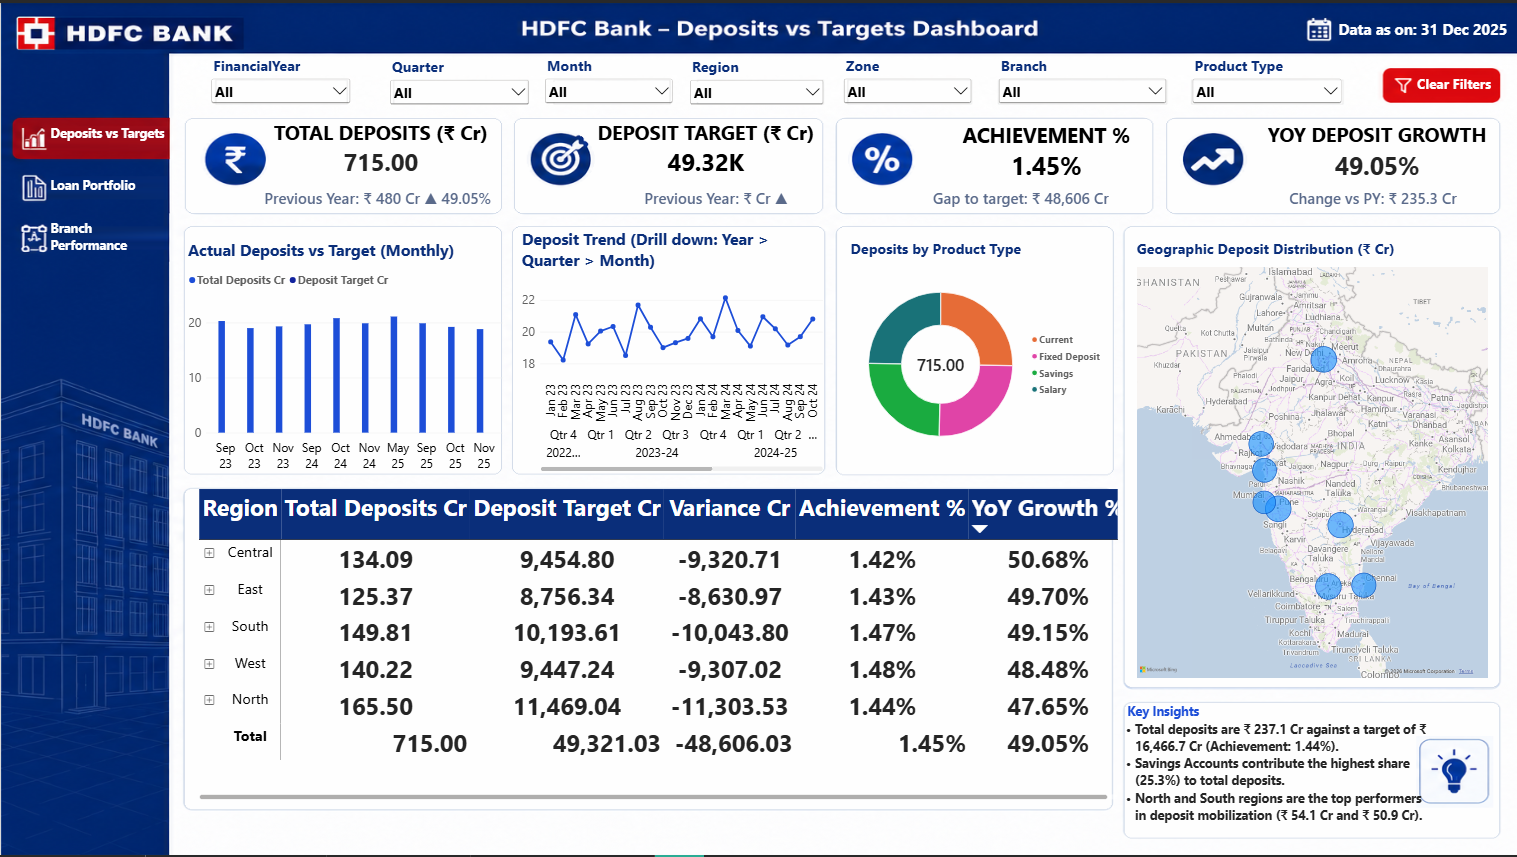

What the dashboard file says about the page in this screenshot:
{"tool":"powerbi","page":{"name":"Deposits vs Targets","canvas":[2560,1440],"ordinal":0},"visuals":[{"type":"pageNavigator","box":[71.9,182,227.5,253.9],"z":0},{"type":"slicer","fields":{"Values":["DimDate.FinancialYear"]},"box":[349.7,88.6,244.3,93.4],"z":1000},{"type":"slicer","fields":{"Values":["DimDate.FY Quarter"]},"box":[651.5,91,244.3,93.4],"z":2000},{"type":"slicer","fields":{"Values":["DimDate.Month Sort"]},"box":[912.6,88.6,225.2,93.4],"z":3000},{"type":"slicer","fields":{"Values":["DimBranch.Region"]},"box":[1156.9,91,234.7,93.4],"z":4000},{"type":"slicer","fields":{"Values":["DimBranch.Zone"]},"box":[1418,88.6,225.2,93.4],"z":5000},{"type":"slicer","fields":{"Values":["DimBranch.BranchName"]},"box":[1679,88.6,292.2,93.4],"z":6000},{"type":"slicer","fields":{"Values":["DimProduct.ProductName"]},"box":[2004.8,88.6,261.1,93.4],"z":7000},{"type":"cardVisual","fields":{"Data":["MeasureTable.Total Deposits Cr"]},"box":[438.3,138.9,404.8,213.2],"z":8000,"group":"g2"},{"type":"cardVisual","fields":{"Data":["MeasureTable.Deposit Target Cr"]},"box":[986.8,138.9,404.8,213.2],"z":9000,"group":"g1"},{"type":"cardVisual","fields":{"Data":["MeasureTable.YoY Growth %"]},"box":[2119.8,136.5,404.8,227.5],"z":10000,"group":"g4"},{"type":"cardVisual","fields":{"Data":["MeasureTable.Achievement %"]},"box":[1556.9,136.5,414.4,227.5],"z":11000,"group":"g3"},{"type":"cardVisual","fields":{"Data":["MeasureTable.Sub Deposits"]},"box":[428.7,292.2,467.1,71.9],"z":12000,"group":"g2"},{"type":"cardVisual","fields":{"Data":["MeasureTable.Sub Target"]},"box":[1068.2,292.2,323.4,71.9],"z":13000,"group":"g1"},{"type":"cardVisual","fields":{"Data":["MeasureTable.Sub Achievement"]},"box":[1556.9,292.2,378.4,71.9],"z":14000,"group":"g3"},{"type":"cardVisual","fields":{"Data":["Min(MeasureTable.Sub YoY)"]},"box":[2158.1,292.2,383.2,71.9],"z":15000,"group":"g4"},{"type":"clusteredColumnChart","title":"Actual Deposits vs Target (Monthly)","fields":{"Category":["DimDate.Month Label"],"Y":["MeasureTable.Total Deposits Cr","MeasureTable.Deposit Target Cr"]},"box":[299.4,383.2,562.9,424],"z":16000},{"type":"lineChart","title":"Deposit Trend (Drill down: Year > Quarter > Month)","fields":{"Category":["DimDate.FY","DimDate.FY Quarter","DimDate.Month Label"],"Y":["MeasureTable.Total Deposits Cr"]},"box":[862.6,364.9,539.9,440.8],"z":17000},{"type":"donutChart","title":"Deposits by Product Type","fields":{"Category":["DimProduct.ProductName"],"Y":["MeasureTable.Total Deposits Cr"]},"box":[1418,383.2,462.3,404.8],"z":18000},{"type":"map","title":"Geographic Deposit Distribution (₹ Cr)","fields":{"Category":["DimBranch.City"],"Size":["MeasureTable.Total Deposits Cr"]},"box":[1899.4,383.2,625.2,771.3],"z":18001},{"type":"pivotTable","fields":{"Rows":["DimBranch.Region","DimBranch.Zone","DimBranch.City","DimBranch.BranchName"],"Values":["MeasureTable.Total Deposits Cr","MeasureTable.Deposit Target Cr","MeasureTable.Variance Cr","MeasureTable.Achievement %","MeasureTable.YoY Growth %"]},"box":[318.5,805.6,1581.7,554.7],"z":18002},{"type":"textbox","box":[1880.2,1209.6,531.7,198.8],"z":18003},{"type":"textbox","box":[1899.4,1178.4,220.4,31.1],"z":18004},{"type":"group","id":"g1","title":"Group 1","box":[986.8,138.9,404.8,225.2],"z":18005,"group":"g2"},{"type":"group","id":"g2","title":"Group 2","box":[428.7,138.9,962.9,225.2],"z":18006},{"type":"group","id":"g3","title":"Group 3","box":[1556.9,136.5,414.4,227.5],"z":18007},{"type":"group","id":"g4","title":"Group 4","box":[2119.8,136.5,421.6,227.5],"z":18008},{"type":"actionButton","box":[2361.7,112.6,179.3,50.6],"z":18009},{"type":"cardVisual","fields":{"Data":["MeasureTable.Data As On"]},"box":[2237.1,0,323.4,86.2],"z":18010}]}

Visuals, with their boxes in screenshot pixels (x1, y1, x2, y2), scaled from the page's 2560x1440 canvas onto the 1517x857 screenshot:
pageNavigator: [43, 108, 177, 259]
slicer - DimDate.FinancialYear: [207, 53, 352, 108]
slicer - DimDate.FY Quarter: [386, 54, 531, 110]
slicer - DimDate.Month Sort: [541, 53, 674, 108]
slicer - DimBranch.Region: [686, 54, 825, 110]
slicer - DimBranch.Zone: [840, 53, 974, 108]
slicer - DimBranch.BranchName: [995, 53, 1168, 108]
slicer - DimProduct.ProductName: [1188, 53, 1343, 108]
cardVisual - MeasureTable.Total Deposits Cr: [260, 83, 500, 210]
cardVisual - MeasureTable.Deposit Target Cr: [585, 83, 825, 210]
cardVisual - MeasureTable.YoY Growth %: [1256, 81, 1496, 217]
cardVisual - MeasureTable.Achievement %: [923, 81, 1168, 217]
cardVisual - MeasureTable.Sub Deposits: [254, 174, 531, 217]
cardVisual - MeasureTable.Sub Target: [633, 174, 825, 217]
cardVisual - MeasureTable.Sub Achievement: [923, 174, 1147, 217]
cardVisual - Min(MeasureTable.Sub YoY): [1279, 174, 1506, 217]
"Actual Deposits vs Target (Monthly)" clusteredColumnChart: [177, 228, 511, 480]
"Deposit Trend (Drill down: Year > Quarter > Month)" lineChart: [511, 217, 831, 480]
"Deposits by Product Type" donutChart: [840, 228, 1114, 469]
"Geographic Deposit Distribution (₹ Cr)" map: [1126, 228, 1496, 687]
pivotTable - DimBranch.Region x DimBranch.Zone: [189, 479, 1126, 810]
textbox: [1114, 720, 1429, 838]
textbox: [1126, 701, 1256, 720]
"Group 1" group: [585, 83, 825, 217]
"Group 2" group: [254, 83, 825, 217]
"Group 3" group: [923, 81, 1168, 217]
"Group 4" group: [1256, 81, 1506, 217]
actionButton: [1399, 67, 1506, 97]
cardVisual - MeasureTable.Data As On: [1326, 0, 1516, 51]
